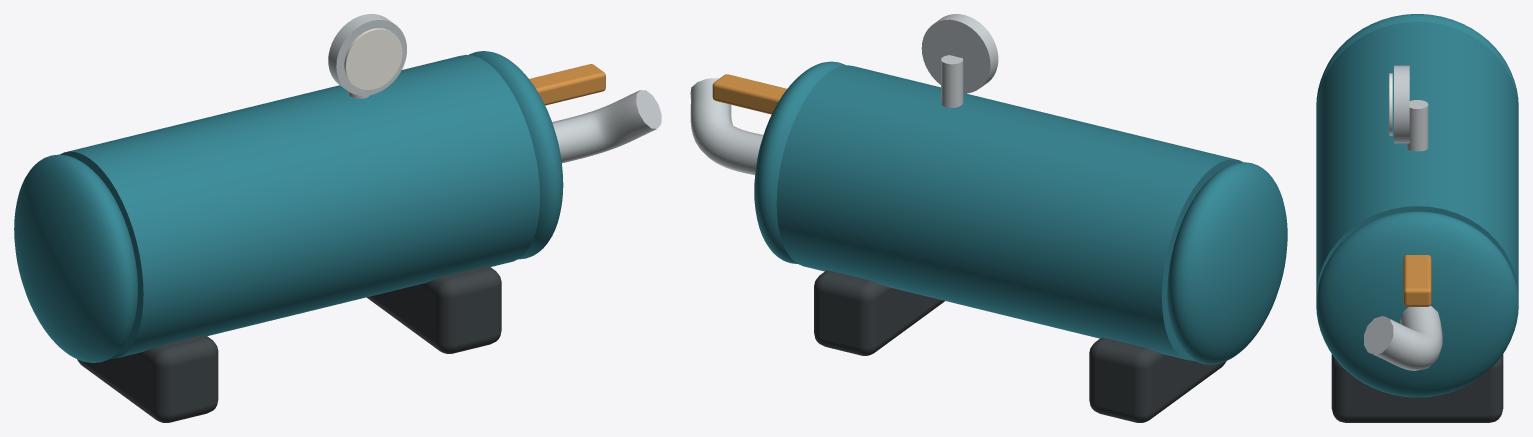
Rendered from bicycle-shop-and-repair-cafe-bead-seating-reservoir-180647d8__32400.glb.
The picture shows the model from 3 angles, left to right: view 1: azimuth 30°, elevation 25°; view 2: azimuth 150°, elevation 25°; view 3: azimuth 270°, elevation 25°; orthographic projection. The views are drawn at different scales.
Visible parts, largest first — view 1: bead-seating-reservoir; view 2: bead-seating-reservoir; view 3: bead-seating-reservoir.
Boxes of the visible parts, <box> form: bead-seating-reservoir: <box>14,14,661,422</box>; bead-seating-reservoir: <box>690,14,1287,422</box>; bead-seating-reservoir: <box>1316,14,1518,422</box>.
Size of the model in its own units: 0.4237 by 0.22 by 0.13.
